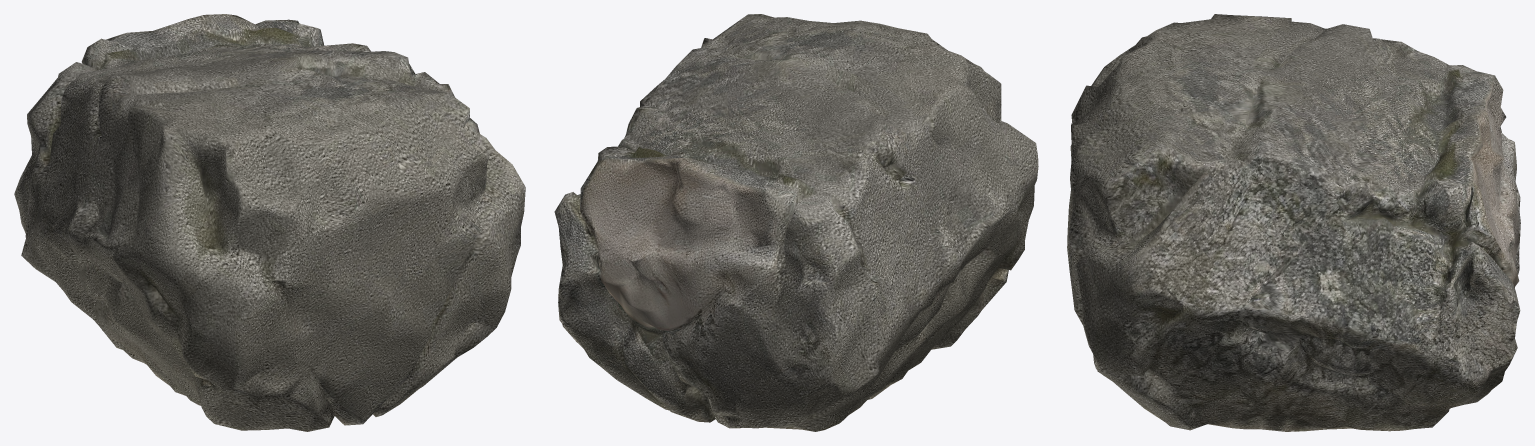
File: boulder.glb
3 renders of one model, left to right at view 1: azimuth 30°, elevation 25°; view 2: azimuth 150°, elevation 25°; view 3: azimuth 270°, elevation 25°, orthographic. The views are drawn at different scales.
Visible parts, largest first — view 1: tripo_node_a7d99096-f0ad-43b8-a7de-d2753196aee2; view 2: tripo_node_a7d99096-f0ad-43b8-a7de-d2753196aee2; view 3: tripo_node_a7d99096-f0ad-43b8-a7de-d2753196aee2.
Part boxes in pixels (x1=…): tripo_node_a7d99096-f0ad-43b8-a7de-d2753196aee2: x1=14, y1=14, x2=525, y2=431; tripo_node_a7d99096-f0ad-43b8-a7de-d2753196aee2: x1=554, y1=14, x2=1038, y2=431; tripo_node_a7d99096-f0ad-43b8-a7de-d2753196aee2: x1=1067, y1=14, x2=1520, y2=431.
Bounding box in the file's own units: 1.58 × 1.2 × 1.59.
Materials: 1 (1 with a texture image).
